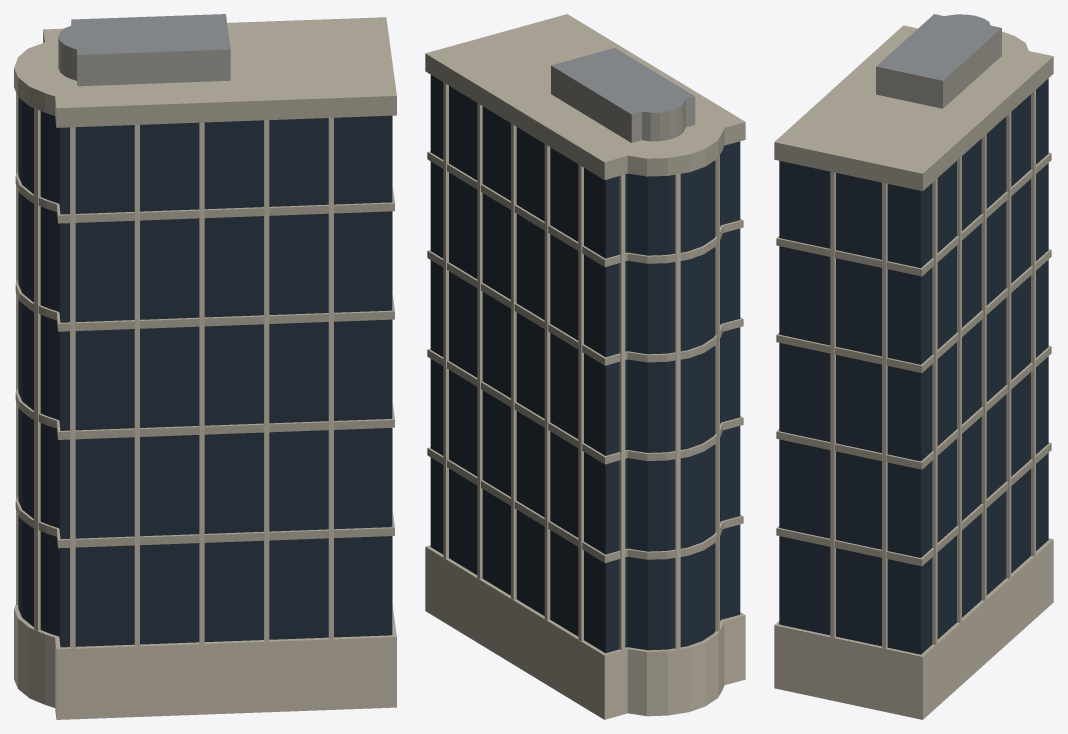
The model's file is bldg_w134921379.glb.
3 renders of one model, left to right at view 1: azimuth 30°, elevation 25°; view 2: azimuth 150°, elevation 25°; view 3: azimuth 270°, elevation 25°, orthographic. The views are drawn at different scales.
Visible parts, largest first — view 1: Bldg_w134921379; view 2: Bldg_w134921379; view 3: Bldg_w134921379.
Boxes of the visible parts, x1,y1,x2,y2 form: Bldg_w134921379: [14, 14, 396, 719]; Bldg_w134921379: [425, 14, 745, 719]; Bldg_w134921379: [774, 14, 1053, 719].
Bounding box in the file's own units: 45.48 × 82 × 36.19.
